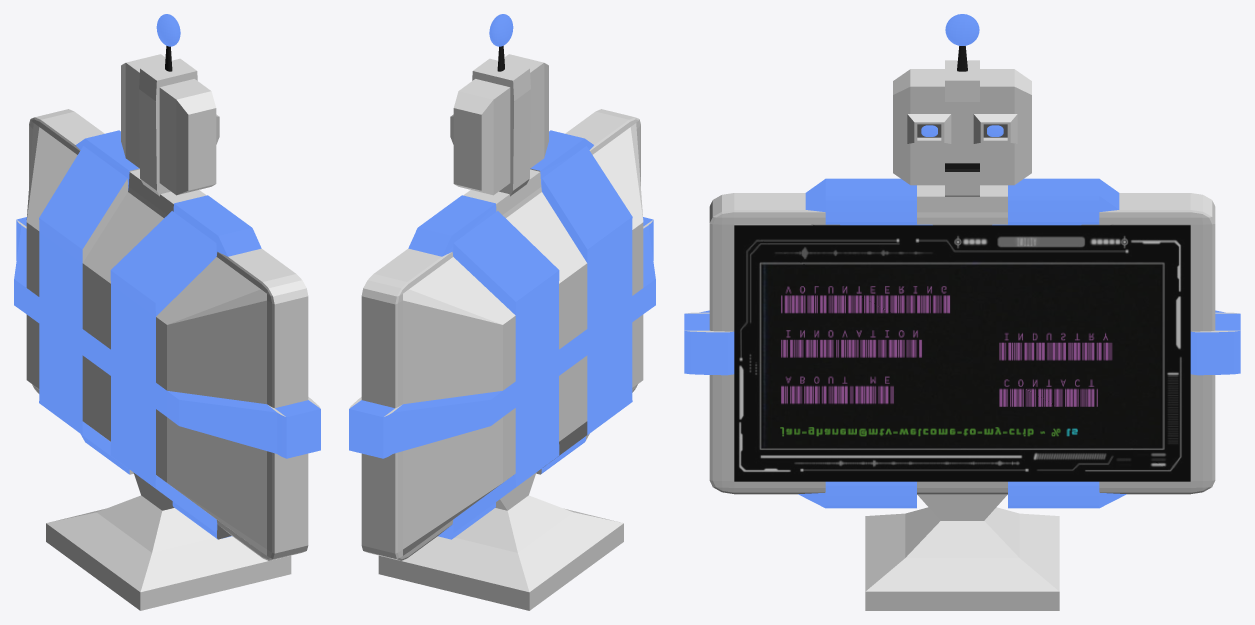
File: robot-nav-flipped-screen1.glb
3 views of the same model, side by side, from view 1: azimuth 30°, elevation 25°; view 2: azimuth 150°, elevation 25°; view 3: azimuth 270°, elevation 25° (orthographic). The views are drawn at different scales.
Parts seen in each view (by area): view 1: Robot; view 2: Robot; view 3: Screen, Robot.
Boxes of the visible parts, <box> form: Robot: <box>14,14,320,610</box>; Robot: <box>349,14,655,610</box>; Screen: <box>734,225,1190,481</box>; Robot: <box>684,14,1240,610</box>.
Size of the model in its own units: 13.7 by 47.12 by 42.52.
Materials: 6 (1 with a texture image).
